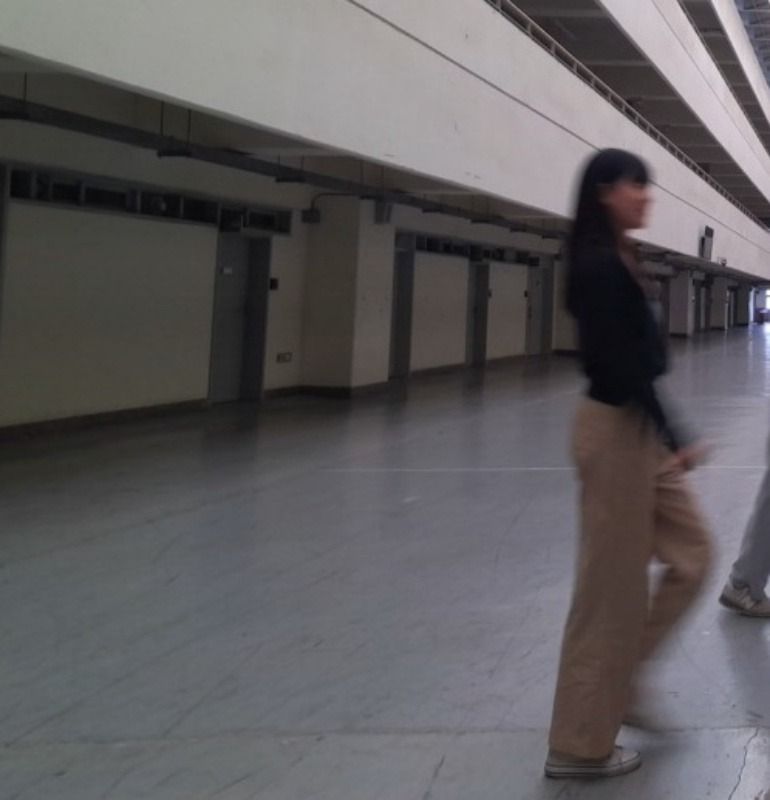person: (541, 146, 711, 782)
